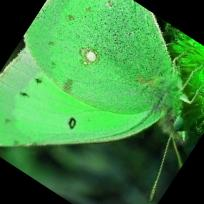butterfly: (0, 0, 186, 147)
